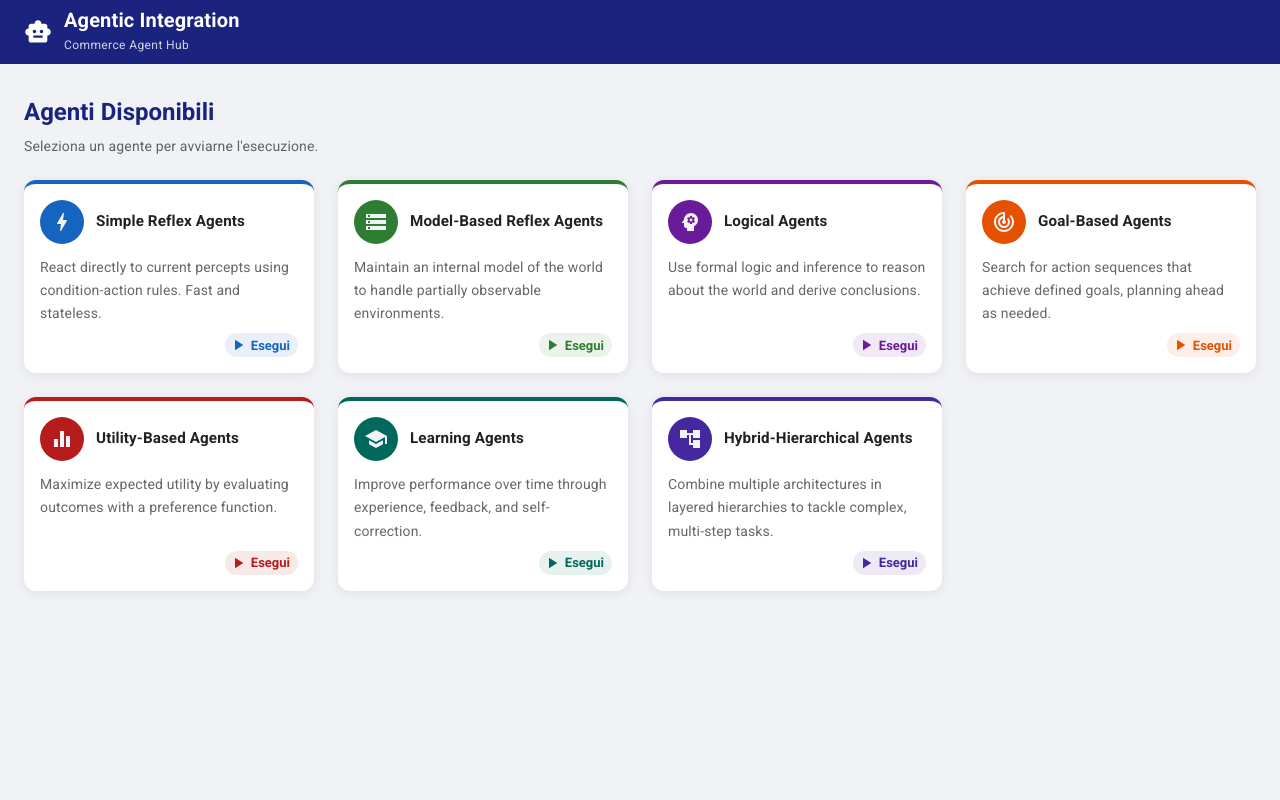
Test: Dashboard › U-D-06: clicking any agent card opens the scenario dialog
This screenshot has width=1280, height=800.
Click the button with aria-label "Esegui Learning Agents".
click(376, 439)  # box 338,401 -> 628,591
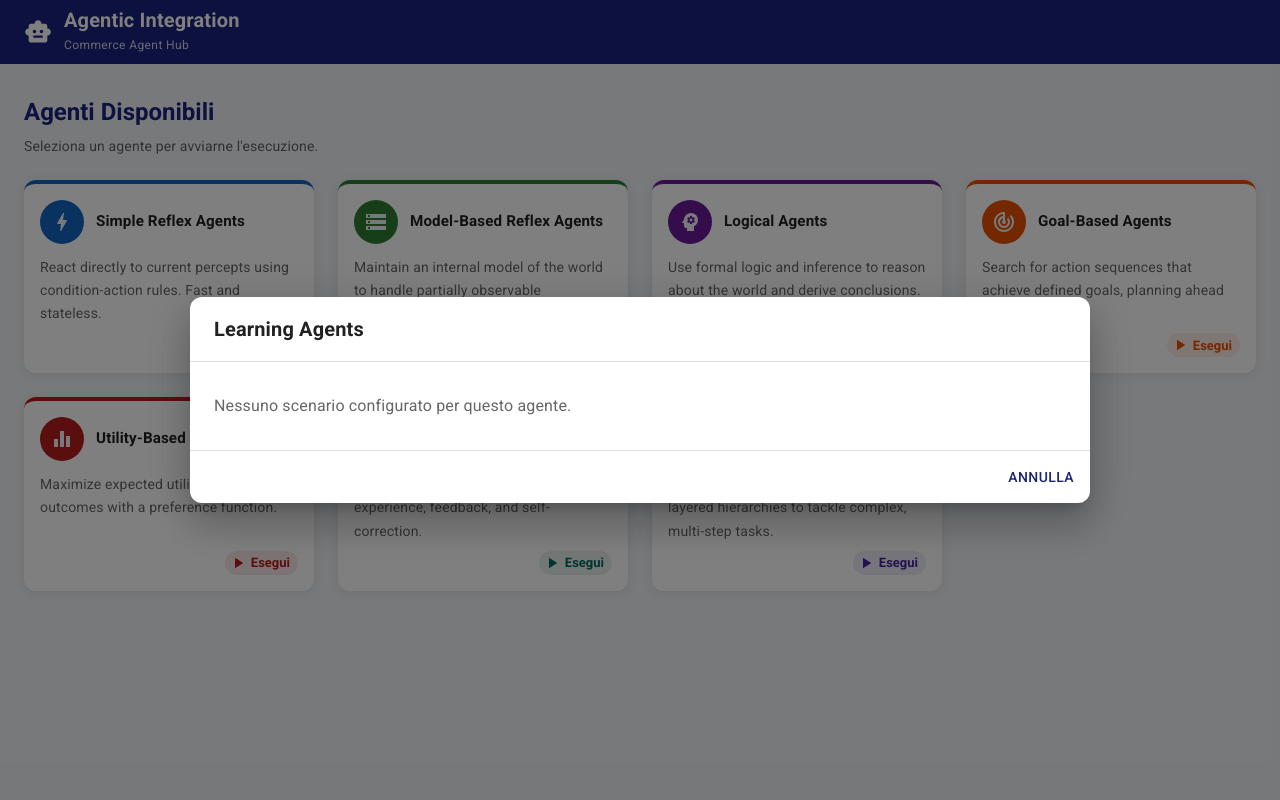
Check: the dialog is shown, box 190,297 -> 1090,503
